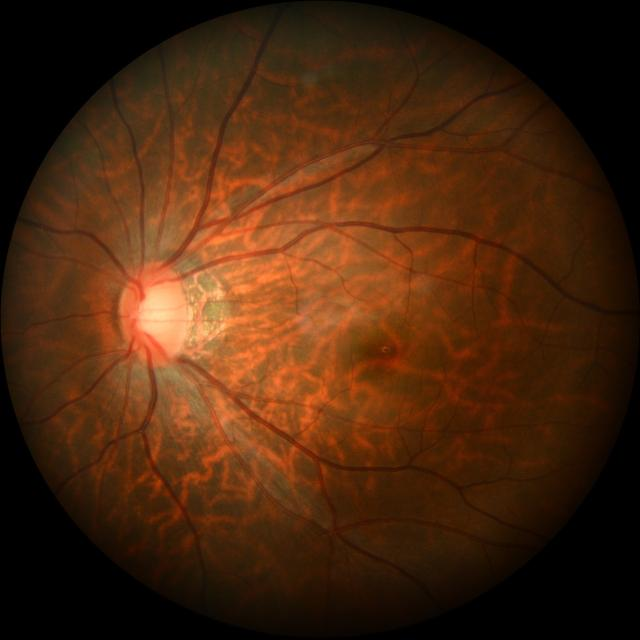OC: (131, 280, 175, 344)
OD: (119, 261, 187, 363)
